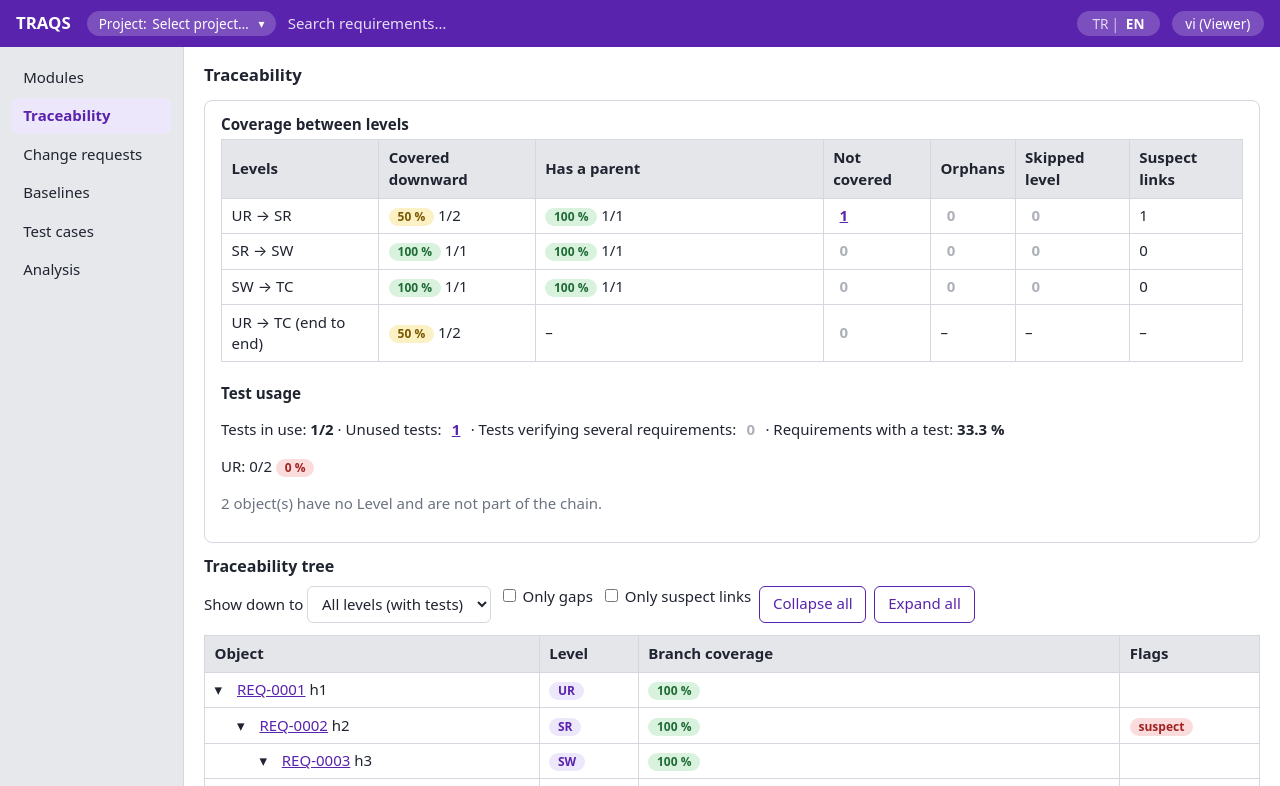
it: traceability screen › collapses a branch and filters to the gaps
Click the button named "Collapse" at (248, 726), box [237,715,259,736]
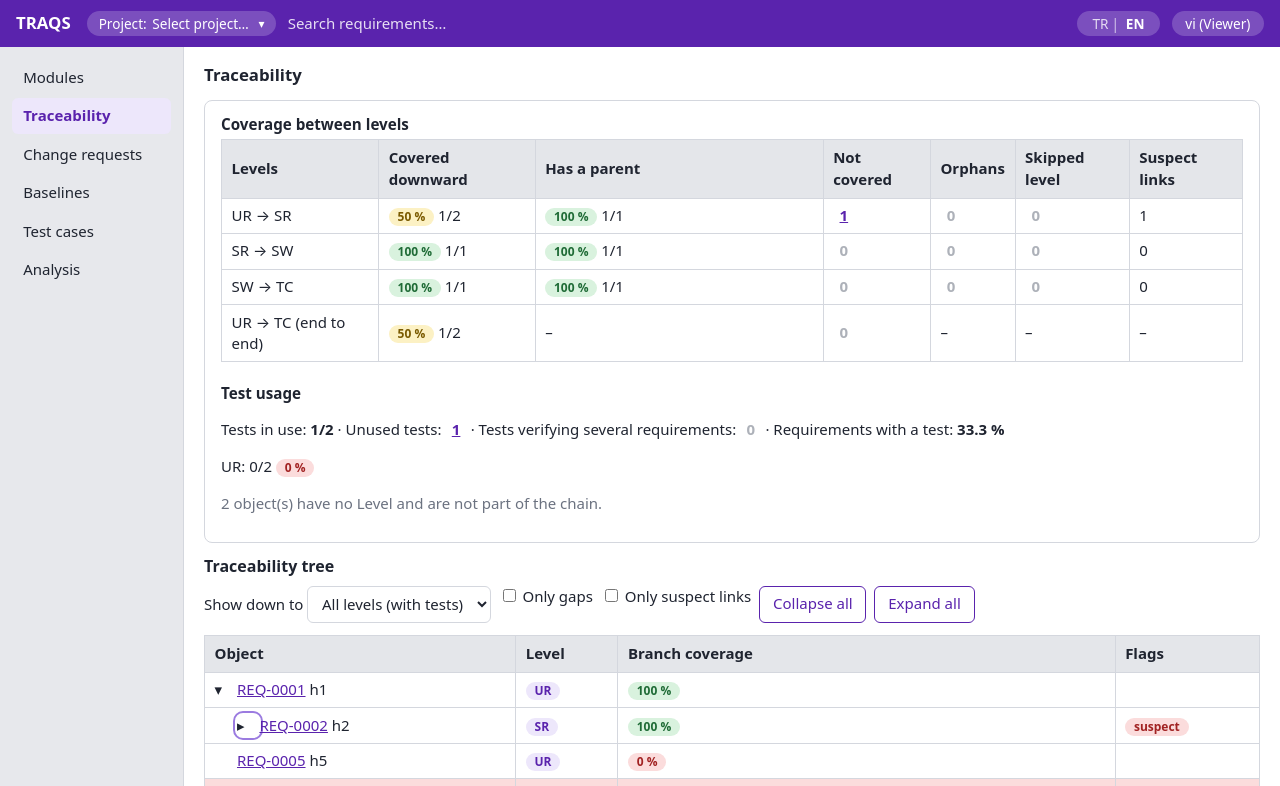
Expected: the text "h3" is gone
Click the checkbox labelled "Only gaps" at (509, 595), box [502,589,516,602]
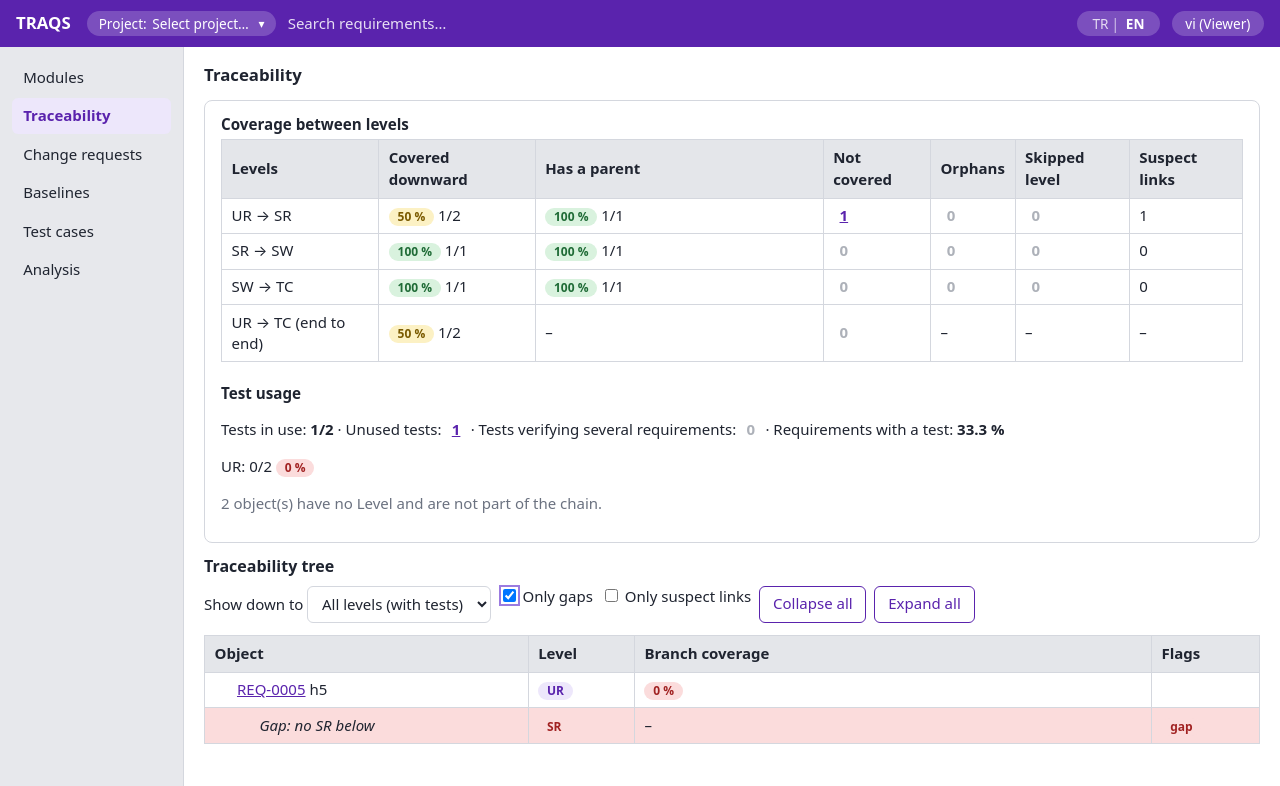
Expected: the text "h1" is gone
